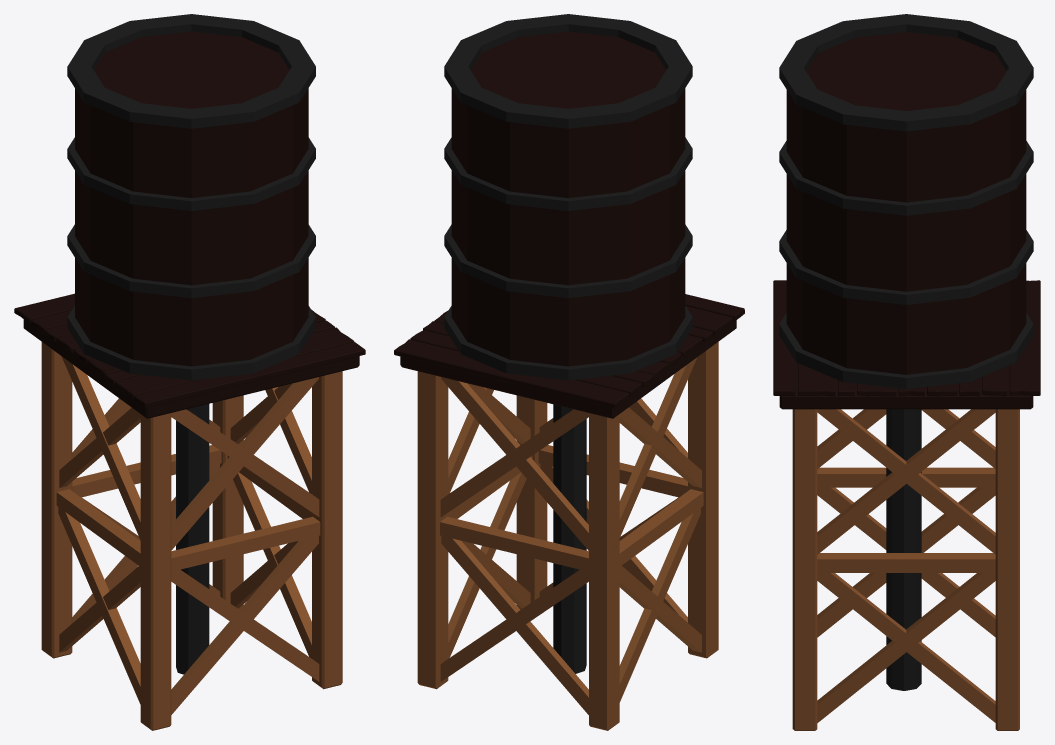
The model's file is ww_water_tank.glb.
The picture shows the model from 3 angles, left to right: view 1: azimuth 30°, elevation 25°; view 2: azimuth 150°, elevation 25°; view 3: azimuth 270°, elevation 25°; orthographic projection. The views are drawn at different scales.
Parts seen in each view (by area): view 1: Water_Tank; view 2: Water_Tank; view 3: Water_Tank.
Part boxes in pixels (x1,y1,x2,y2): Water_Tank: (14,14,365,730); Water_Tank: (394,14,744,730); Water_Tank: (773,14,1040,730).
Bounding box in the file's own units: 2.2 × 5.68 × 2.23.
